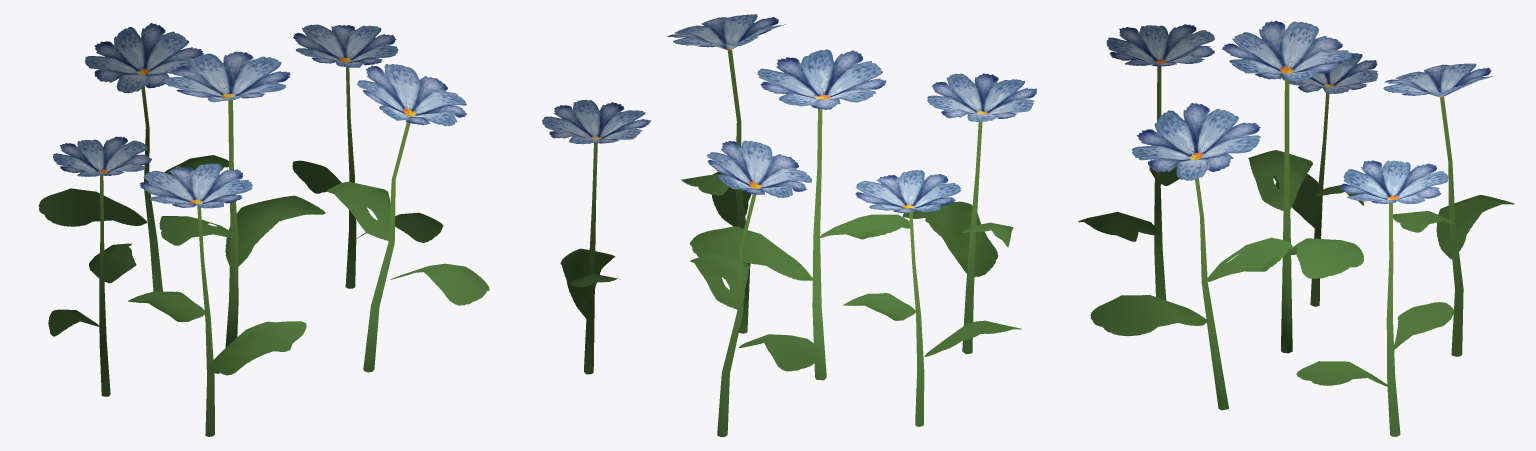
File: FlowersA_Cluster.fbx
3 renders of one model, left to right at view 1: azimuth 30°, elevation 25°; view 2: azimuth 150°, elevation 25°; view 3: azimuth 270°, elevation 25°, orthographic. The views are drawn at different scales.
Parts seen in each view (by area): view 1: FlowerA_ClusterLOD0; view 2: FlowerA_ClusterLOD0; view 3: FlowerA_ClusterLOD0.
Boxes of the visible parts, x1,y1,x2,y2 form: FlowerA_ClusterLOD0: (38, 23, 489, 436); FlowerA_ClusterLOD0: (542, 14, 1036, 436); FlowerA_ClusterLOD0: (1078, 20, 1514, 436).
Size of what is drawn, in the model's own units: 90.81 by 57.91 by 74.88.
